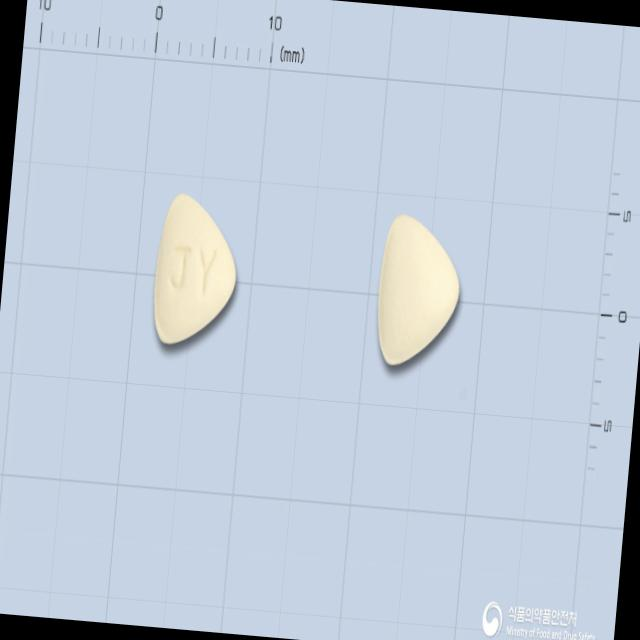Durova: (147, 188, 244, 352)
